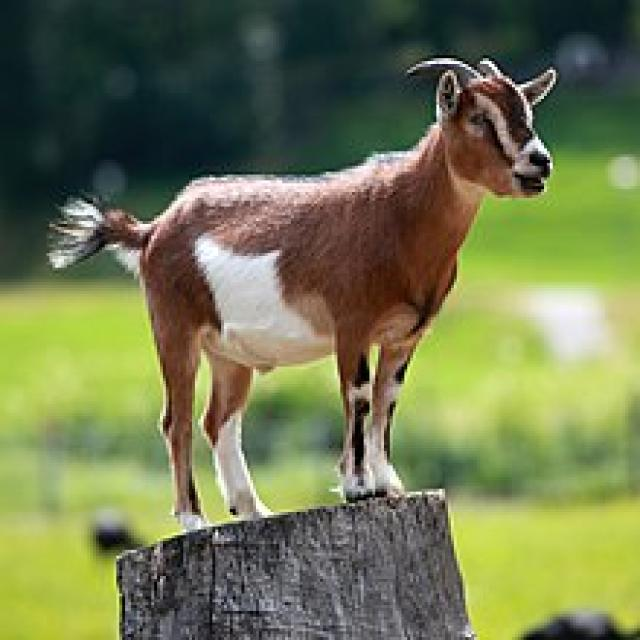animal: (33, 33, 614, 563)
